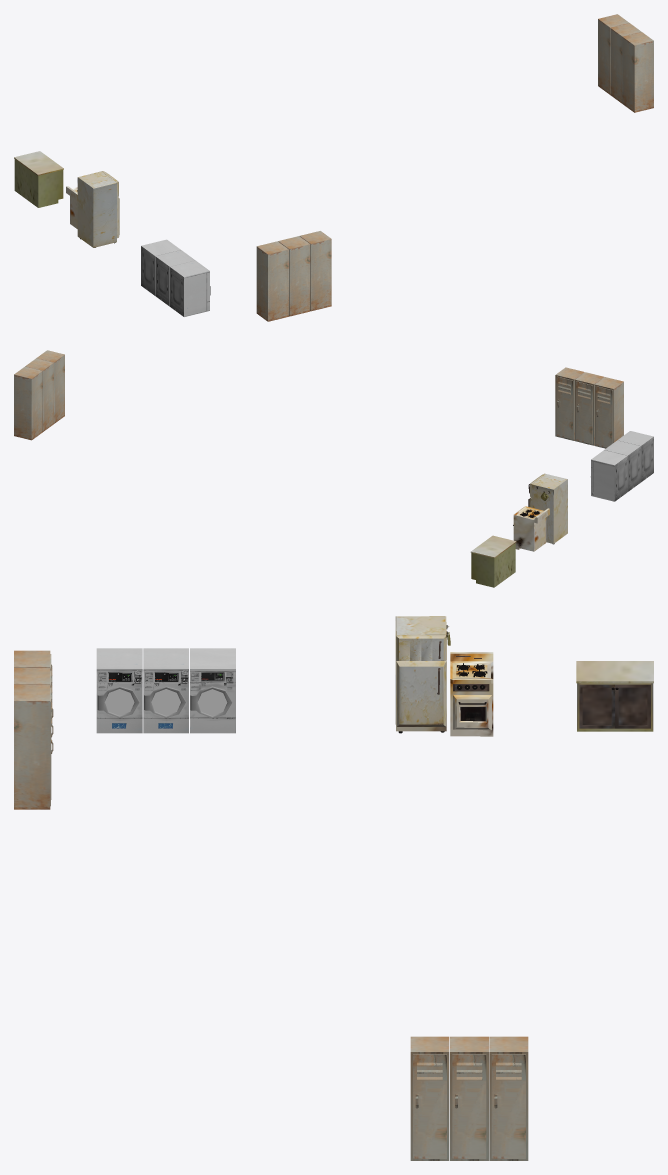
The model's file is perabotanyink.fbx.
3 renders of one model, top to bottom at view 1: azimuth 30°, elevation 25°; view 2: azimuth 150°, elevation 25°; view 3: azimuth 270°, elevation 25°, orthographic. The views are drawn at different scales.
Visible parts, largest first — view 1: kulkass.014, LockerMain_Cube.038, LockerMain_Cube.007, wastapel.001, Laundry_01.001, LockerMain_Cube.001, LockerMain_Cube.003, LockerMain_Cube.009, LockerMain_Cube.011, Laundry, Laundry_01; view 2: LockerMain_Cube.011, wastapel.001, kulkass.014, Laundry, kompor dapur, LockerMain_Cube.004, LockerMain_Cube.039, LockerMain_Cube.038, LockerMain_Cube.002, LockerMain_Cube.009, LockerMain_Cube.007, Laundry_01 (+3 smaller); view 3: LockerMain_Cube.003, LockerMain_Cube.010, LockerMain_Cube.012, LockerMain_Cube.008, pintukulkasbawah, Laundry_01.001, Laundry, Laundry_01, wastapel.001, kompor dapur, DoorR1SteelSinkKitchenCabinet1.002, DoorR1SteelSinkKitchenCabinet1.004 (+9 smaller).
Part boxes in pixels (left/top/right/bottom): kulkass.014: left=77, top=171, right=116, bottom=247; LockerMain_Cube.038: left=256, top=241, right=288, bottom=321; LockerMain_Cube.007: left=622, top=32, right=653, bottom=112; wastapel.001: left=14, top=151, right=63, bottom=207; Laundry_01.001: left=170, top=260, right=209, bottom=316; LockerMain_Cube.001: left=278, top=236, right=310, bottom=316; LockerMain_Cube.003: left=299, top=231, right=331, bottom=311; LockerMain_Cube.009: left=610, top=23, right=641, bottom=103; LockerMain_Cube.011: left=598, top=14, right=629, bottom=94; Laundry: left=141, top=239, right=180, bottom=295; Laundry_01: left=155, top=250, right=195, bottom=306; LockerMain_Cube.011: left=14, top=366, right=42, bottom=440; wastapel.001: left=470, top=535, right=516, bottom=587; kulkass.014: left=532, top=474, right=567, bottom=544; Laundry: left=591, top=450, right=627, bottom=501; kompor dapur: left=513, top=506, right=549, bottom=551; LockerMain_Cube.004: left=556, top=376, right=573, bottom=439; LockerMain_Cube.039: left=595, top=386, right=612, bottom=447; LockerMain_Cube.038: left=594, top=377, right=623, bottom=448; LockerMain_Cube.002: left=576, top=381, right=592, bottom=444; LockerMain_Cube.009: left=25, top=358, right=53, bottom=431; LockerMain_Cube.007: left=36, top=350, right=64, bottom=423; Laundry_01: left=604, top=440, right=640, bottom=491; LockerMain_Cube.003: left=14, top=684, right=50, bottom=809; LockerMain_Cube.010: left=452, top=1054, right=486, bottom=1158; LockerMain_Cube.012: left=491, top=1054, right=525, bottom=1158; LockerMain_Cube.008: left=413, top=1054, right=446, bottom=1158; pintukulkasbawah: left=396, top=660, right=446, bottom=726; Laundry_01.001: left=96, top=648, right=142, bottom=733; Laundry: left=190, top=648, right=235, bottom=733; Laundry_01: left=143, top=648, right=188, bottom=733; wastapel.001: left=576, top=661, right=653, bottom=731; kompor dapur: left=450, top=652, right=493, bottom=736; DoorR1SteelSinkKitchenCabinet1.002: left=579, top=684, right=615, bottom=728; DoorR1SteelSinkKitchenCabinet1.004: left=615, top=684, right=650, bottom=728.
Size of the model in its own units: 2211 by 251 by 1333.
